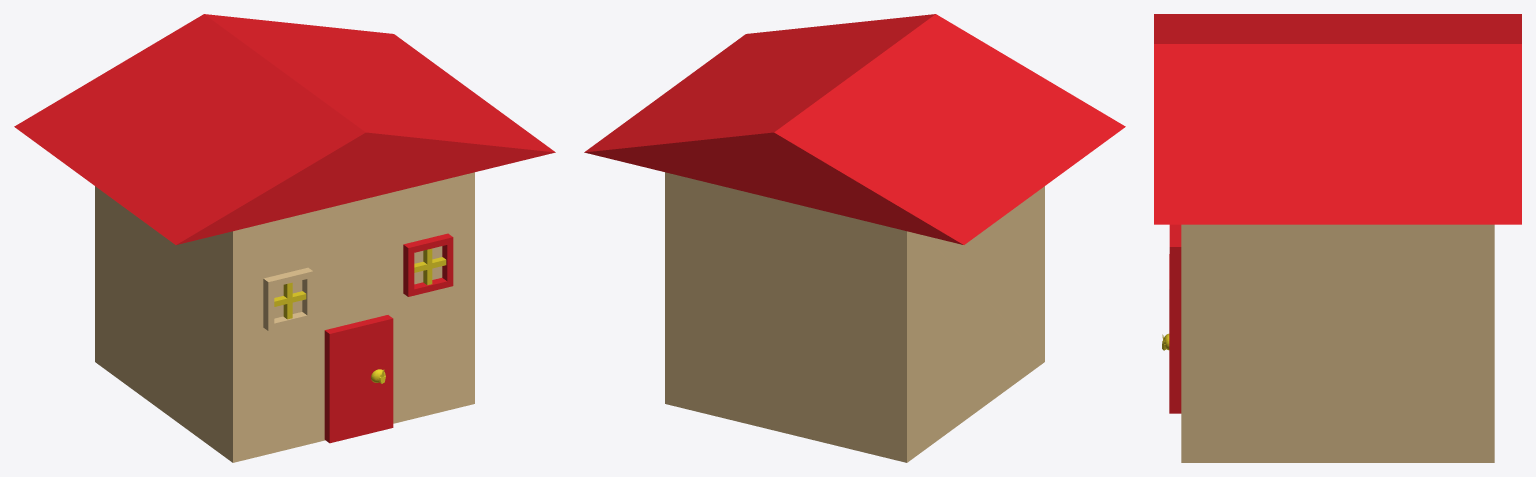
File: House5.fbx
The picture shows the model from 3 angles, left to right: view 1: azimuth 30°, elevation 25°; view 2: azimuth 150°, elevation 25°; view 3: azimuth 270°, elevation 25°; orthographic projection. The views are drawn at different scales.
Visible parts, largest first — view 1: Window2; view 2: Window2; view 3: Window2.
Boxes of the visible parts, x1,y1,x2,y2 form: Window2: [14, 14, 555, 462]; Window2: [584, 14, 1125, 462]; Window2: [1154, 14, 1521, 462].
Size of the model in its own units: 271 by 211 by 200.
